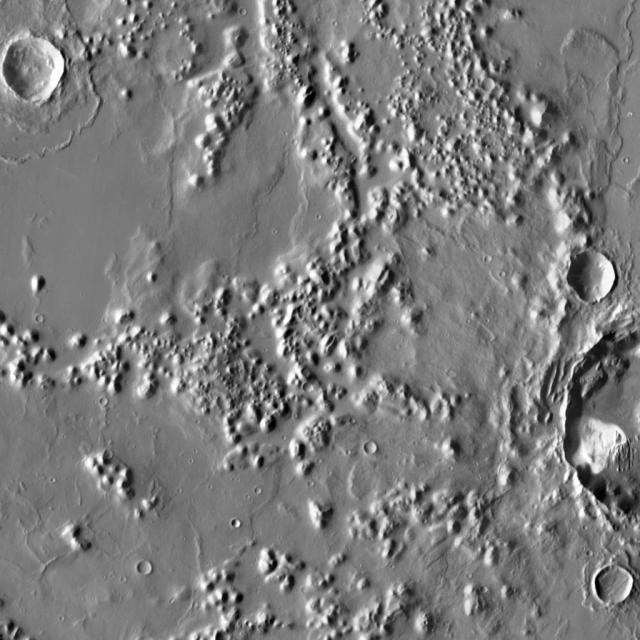crater: (0, 354, 251, 640), (195, 141, 354, 300), (1, 37, 63, 100), (566, 253, 614, 301), (596, 568, 633, 604), (362, 442, 376, 457), (139, 564, 153, 578), (482, 80, 496, 92), (302, 384, 312, 393), (501, 96, 510, 104), (484, 255, 492, 263), (36, 316, 44, 324), (99, 398, 107, 406), (174, 74, 181, 82), (480, 586, 488, 593), (232, 521, 240, 528), (254, 488, 261, 495), (240, 10, 246, 16), (500, 270, 506, 276)
